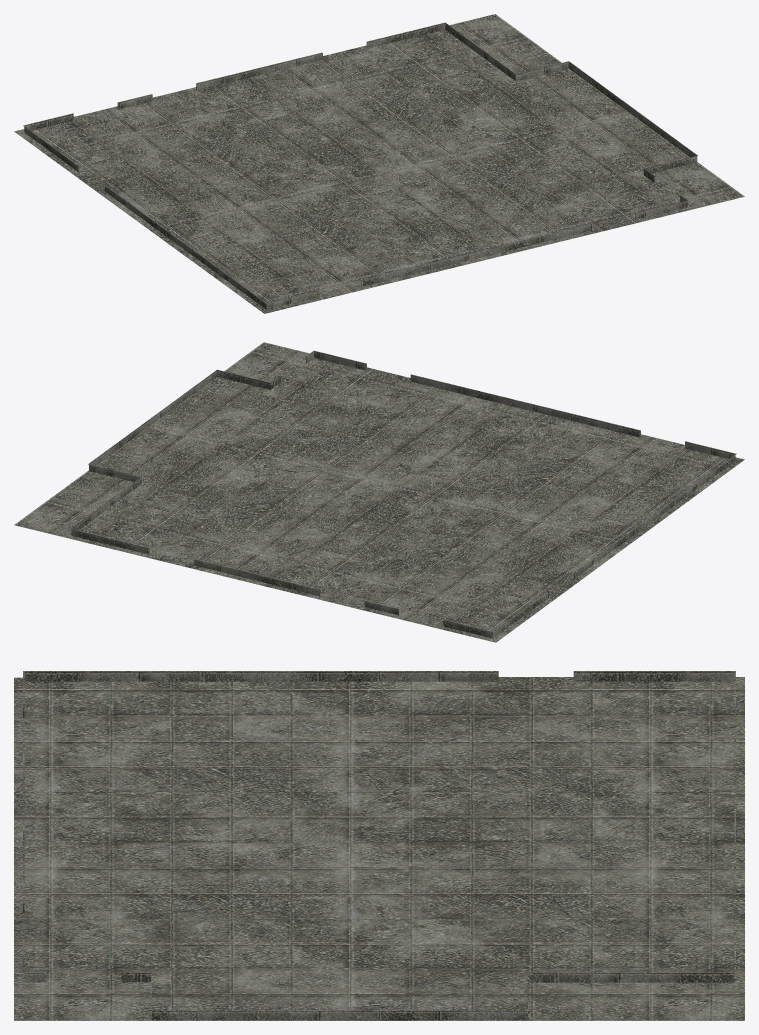
Rendered from A2_H3_Floor.FBX.
3 renders of one model, top to bottom at view 1: azimuth 30°, elevation 25°; view 2: azimuth 150°, elevation 25°; view 3: azimuth 270°, elevation 25°, orthographic. The views are drawn at different scales.
Visible parts, largest first — view 1: A2_H3_Floor; view 2: A2_H3_Floor; view 3: A2_H3_Floor.
Part boxes in pixels (box(x1,y1,x2,y2)): A2_H3_Floor: box(14, 14, 744, 313); A2_H3_Floor: box(14, 342, 744, 642); A2_H3_Floor: box(14, 671, 744, 1020).
Bounding box in the file's own units: 1357 × 18.21 × 1218.
